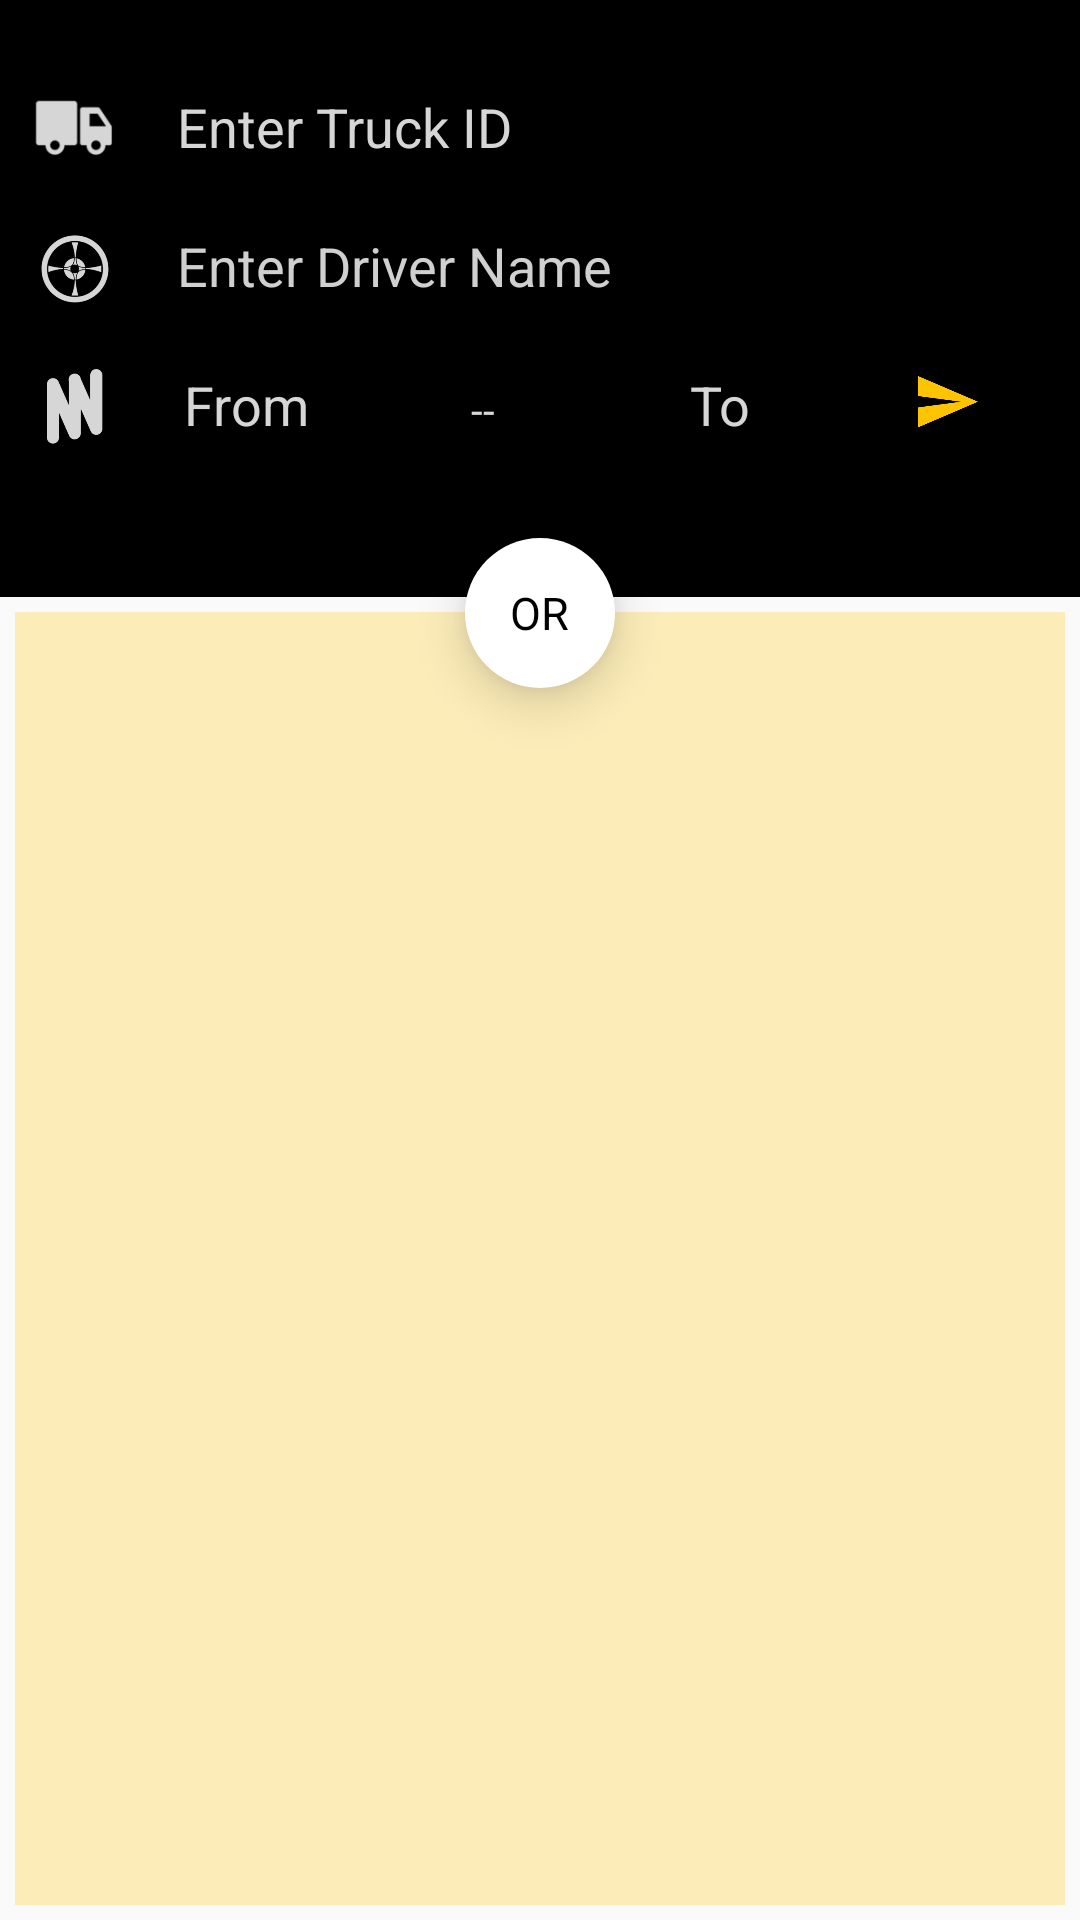

Named icons in this screenshot (1080w x 1920h) and their bounding boxes, (x1, y1, x2, y2):
forward: (918, 376, 978, 427)
to fro: (47, 369, 103, 444)
